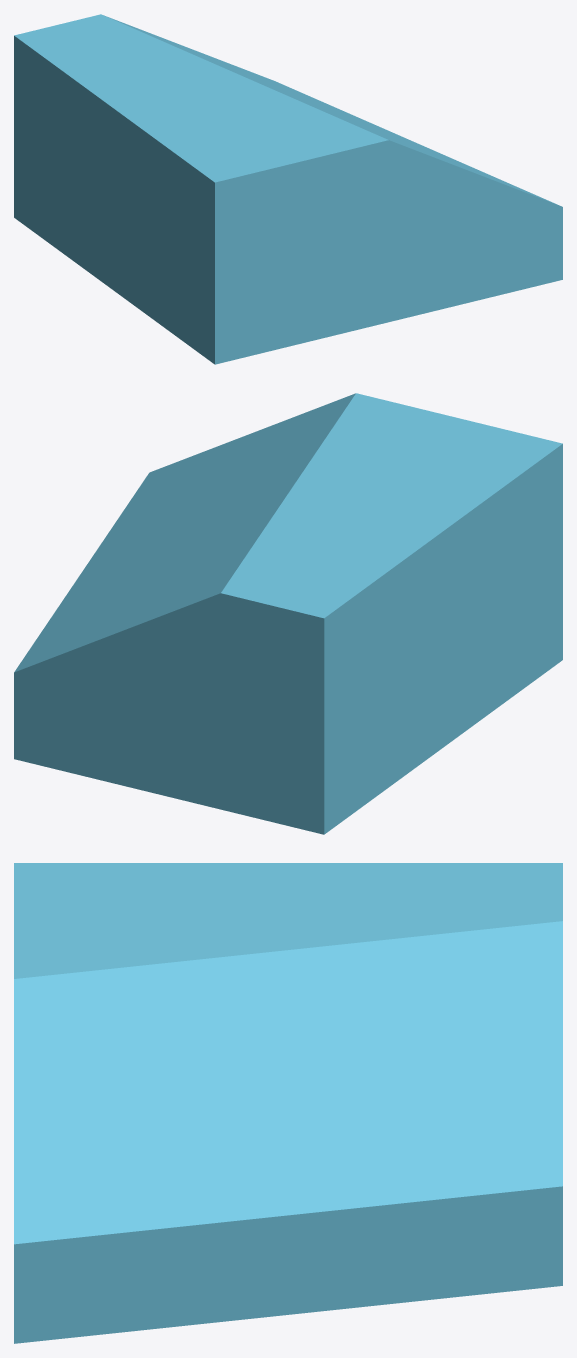
Rendered from spacestation_structure_fuselage_angled_horizontal_normal.glb.
3 renders of one model, top to bottom at view 1: azimuth 30°, elevation 25°; view 2: azimuth 150°, elevation 25°; view 3: azimuth 270°, elevation 25°, orthographic. The views are drawn at different scales.
Size of the model in its own units: 2 by 1 by 2.
